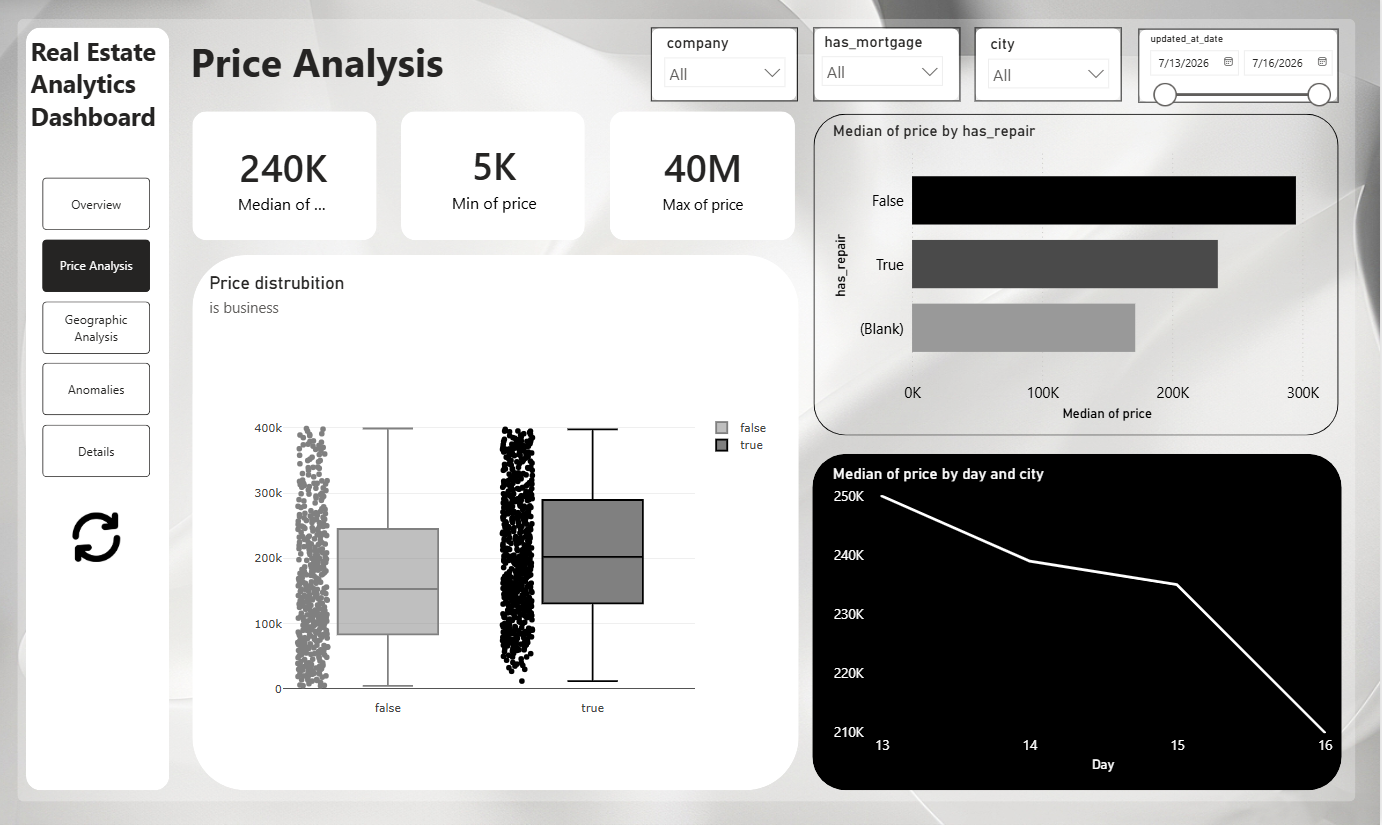

What the dashboard file says about the page in this screenshot:
{"tool":"powerbi","page":{"name":"Price Analysis","canvas":[1500,900],"ordinal":1},"visuals":[{"type":"shape","box":[23.2,25.9,1451.2,848.9],"z":0},{"type":"shape","box":[439,125.4,199.4,139.9],"z":1000},{"type":"shape","box":[32.7,35.4,155.3,827.1],"z":2000},{"type":"textbox","box":[205.8,38.6,307.1,69.1],"z":3000},{"type":"shape","box":[212.2,125.5,200,140],"z":4000},{"type":"shape","box":[665.7,125.4,201,139.9],"z":5000},{"type":"cardVisual","fields":{"Data":["Median(listings.price)"]},"box":[233.6,137.9,157.6,119.6],"z":6000},{"type":"cardVisual","fields":{"Data":["Min(listings.price)"]},"box":[439,136.7,202.6,119],"z":7000},{"type":"cardVisual","fields":{"Data":["Max(listings.price)"]},"box":[675.4,138.3,183.3,119],"z":8000},{"type":"shape","box":[886,128.6,569.3,349],"z":9000},{"type":"shape","box":[1061,35.2,159,80.2],"z":10000},{"type":"shape","box":[884.4,496.9,574.1,365],"z":11000},{"type":"shape","box":[886.5,35.2,159,80.2],"z":12000},{"type":"shape","box":[710.6,35.2,159,80.2],"z":13000},{"type":"shape","box":[1238.3,36.6,216.7,80.2],"z":14000},{"type":"shape","box":[212.3,281.4,657.7,580.5],"z":15000},{"type":"slicer","fields":{"Values":["listings.city"]},"box":[1065.2,38,152,77.4],"z":16000},{"type":"slicer","fields":{"Values":["listings.updated_at_date"]},"box":[1238.3,35.2,216.7,90.1],"z":17000},{"type":"slicer","fields":{"Values":["listings.has_mortgage"]},"box":[885.1,35.2,152,77.4],"z":18000},{"type":"slicer","fields":{"Values":["listings.company"]},"box":[714.8,36.6,152,77.4],"z":19000},{"type":"textbox","box":[32.4,38,173.1,128],"z":20000},{"type":"boxPloty6C987A9E682A4A859272BFEC966AF372","title":"Price distrubition","fields":{"measure":["listings.price"],"category":["listings.is_business"]},"box":[226.7,300.7,632,546.7],"z":21000},{"type":"lineChart","title":"Median of price by day and city","fields":{"Category":["listings.updated_at_date.Variation.Date Hierarchy.Day","listings.city"],"Y":["Median(listings.price)"]},"box":[902.1,508.1,553.2,339.3],"z":22000},{"type":"barChart","fields":{"Category":["listings.has_repair"],"Y":["Median(listings.price)"]},"box":[902.1,136.7,537.1,329.7],"z":23000},{"type":"pageNavigator","box":[50.4,197.6,117.2,329.8],"z":24000},{"type":"image","box":[73.4,560.9,71.7,53.8],"z":25000}]}

Visuals, with their boxes in screenshot pixels (x1, y1, x2, y2), scaled from the page's 1500x900 canvas onto the 1382x825 screenshot:
shape: bbox=[21, 24, 1358, 802]
shape: bbox=[404, 115, 588, 243]
shape: bbox=[30, 32, 173, 791]
textbox: bbox=[190, 35, 473, 99]
shape: bbox=[196, 115, 380, 243]
shape: bbox=[613, 115, 799, 243]
cardVisual - Median(listings.price): bbox=[215, 126, 360, 236]
cardVisual - Min(listings.price): bbox=[404, 125, 591, 234]
cardVisual - Max(listings.price): bbox=[622, 127, 791, 236]
shape: bbox=[816, 118, 1341, 438]
shape: bbox=[978, 32, 1124, 106]
shape: bbox=[815, 455, 1344, 790]
shape: bbox=[817, 32, 963, 106]
shape: bbox=[655, 32, 801, 106]
shape: bbox=[1141, 34, 1341, 107]
shape: bbox=[196, 258, 802, 790]
slicer - listings.city: bbox=[981, 35, 1121, 106]
slicer - listings.updated_at_date: bbox=[1141, 32, 1341, 115]
slicer - listings.has_mortgage: bbox=[815, 32, 956, 103]
slicer - listings.company: bbox=[659, 34, 799, 104]
textbox: bbox=[30, 35, 189, 152]
"Price distrubition" boxPloty6C987A9E682A4A859272BFEC966AF372: bbox=[209, 276, 791, 777]
"Median of price by day and city" lineChart: bbox=[831, 466, 1341, 777]
barChart - listings.has_repair x Median(listings.price): bbox=[831, 125, 1326, 428]
pageNavigator: bbox=[46, 181, 154, 483]
image: bbox=[68, 514, 134, 563]
